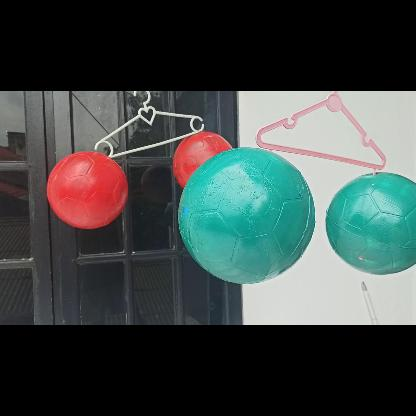red_ball: (48, 150, 126, 230)
